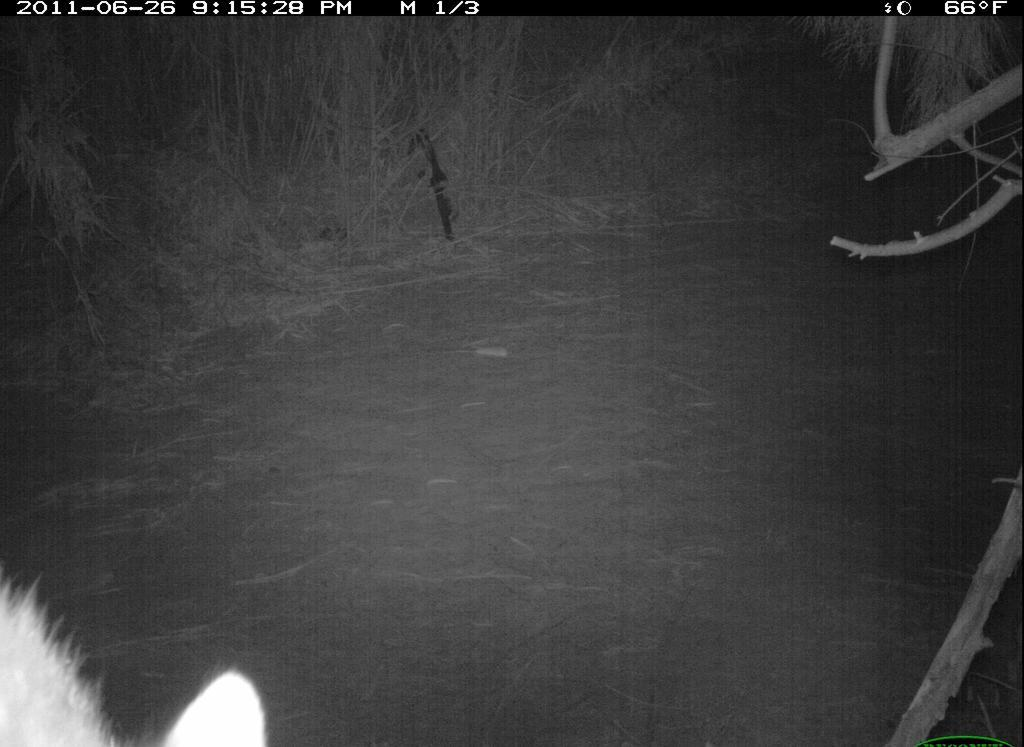raccoon: (7, 532, 294, 747)
